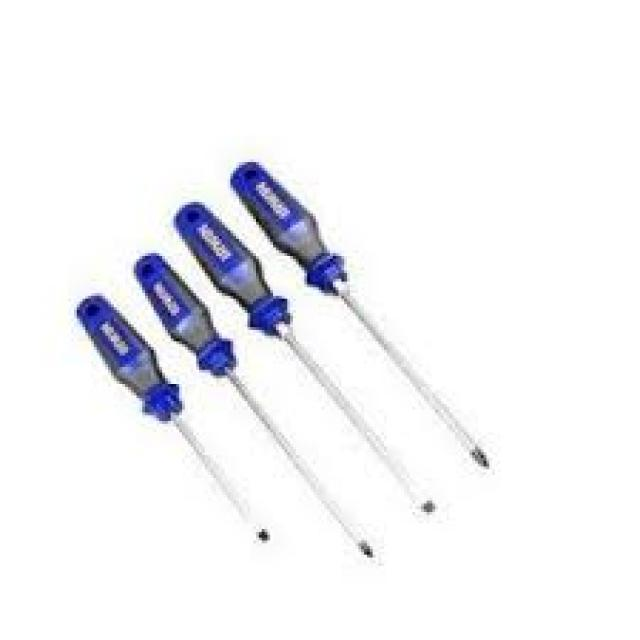screwdriver: (170, 199, 438, 521), (228, 154, 498, 472), (131, 249, 387, 562), (74, 294, 282, 544)
